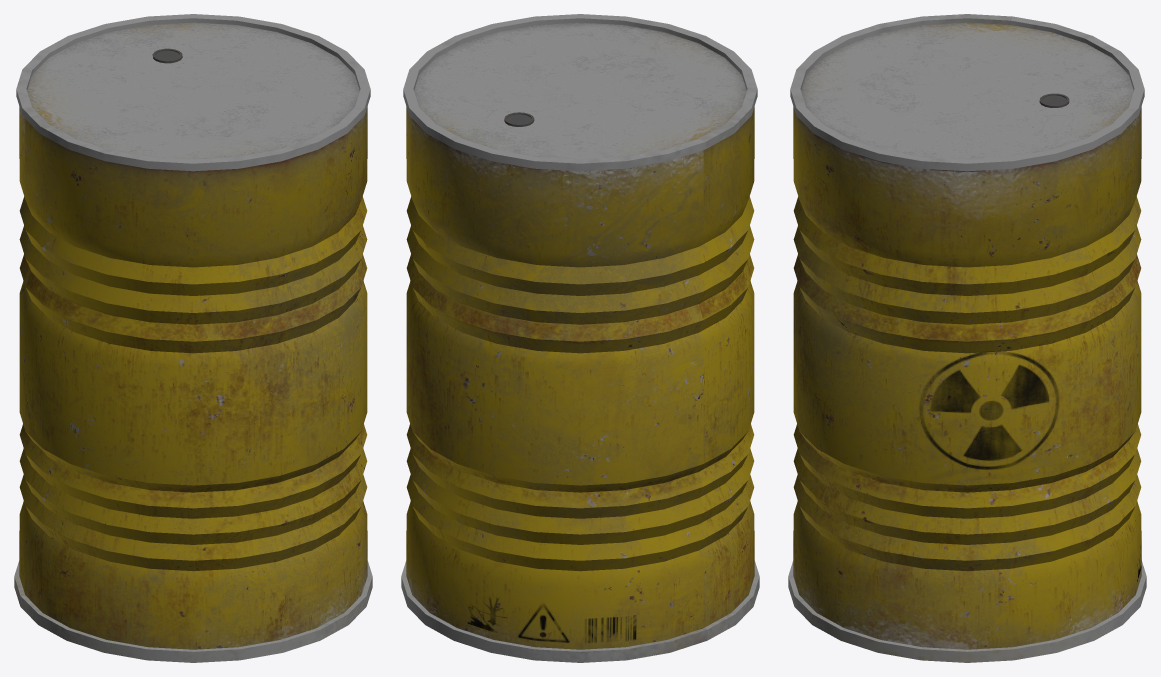
Rendered from Barel1.fbx.
The picture shows the model from 3 angles, left to right: view 1: azimuth 30°, elevation 25°; view 2: azimuth 150°, elevation 25°; view 3: azimuth 270°, elevation 25°; orthographic projection.
Parts seen in each view (by area): view 1: Circle; view 2: Circle; view 3: Circle.
Part boxes in pixels (x1,y1,x2,y2): Circle: (14, 14, 372, 662); Circle: (401, 14, 759, 662); Circle: (788, 14, 1146, 662).
Size of the model in its own units: 57.99 by 89 by 57.99.
Materials: 1 (1 with a texture image).
